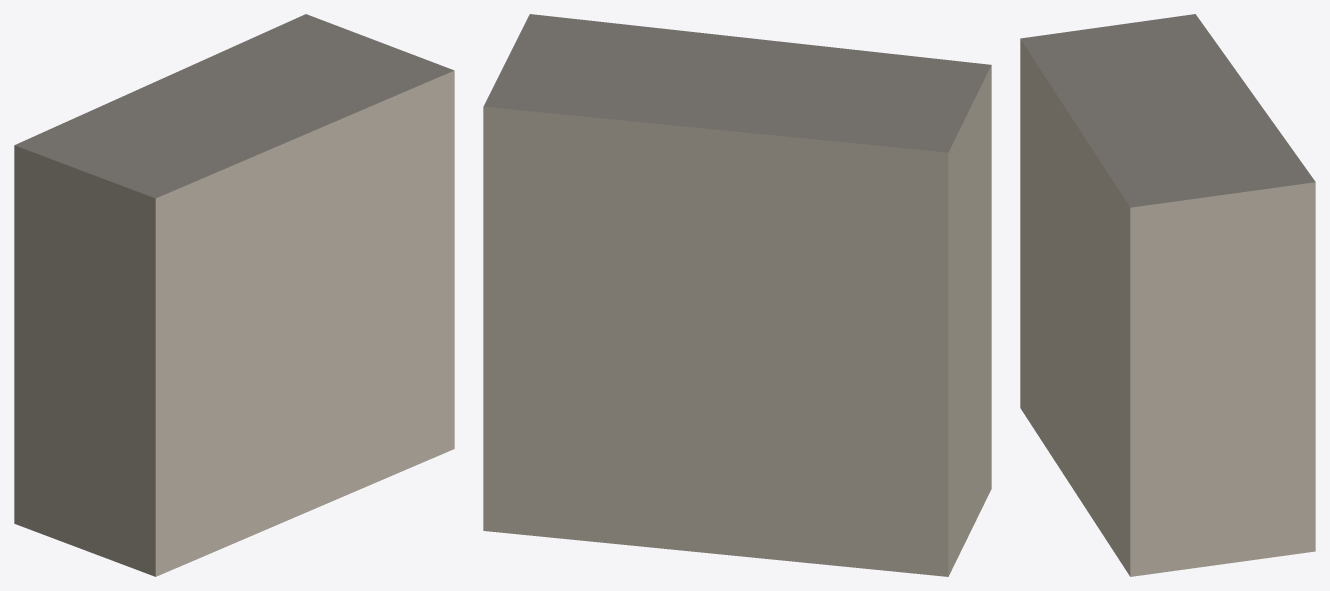
The picture shows the model from 3 angles, left to right: view 1: azimuth 30°, elevation 25°; view 2: azimuth 150°, elevation 25°; view 3: azimuth 270°, elevation 25°; orthographic projection. The views are drawn at different scales.
Parts seen in each view (by area): view 1: HP-w505649239; view 2: HP-w505649239; view 3: HP-w505649239.
Part boxes in pixels (x1,y1,x2,y2): HP-w505649239: (14,14,454,576); HP-w505649239: (483,14,991,576); HP-w505649239: (1020,14,1315,576).
Bounding box in the file's own units: 20.25 × 18 × 13.06.
